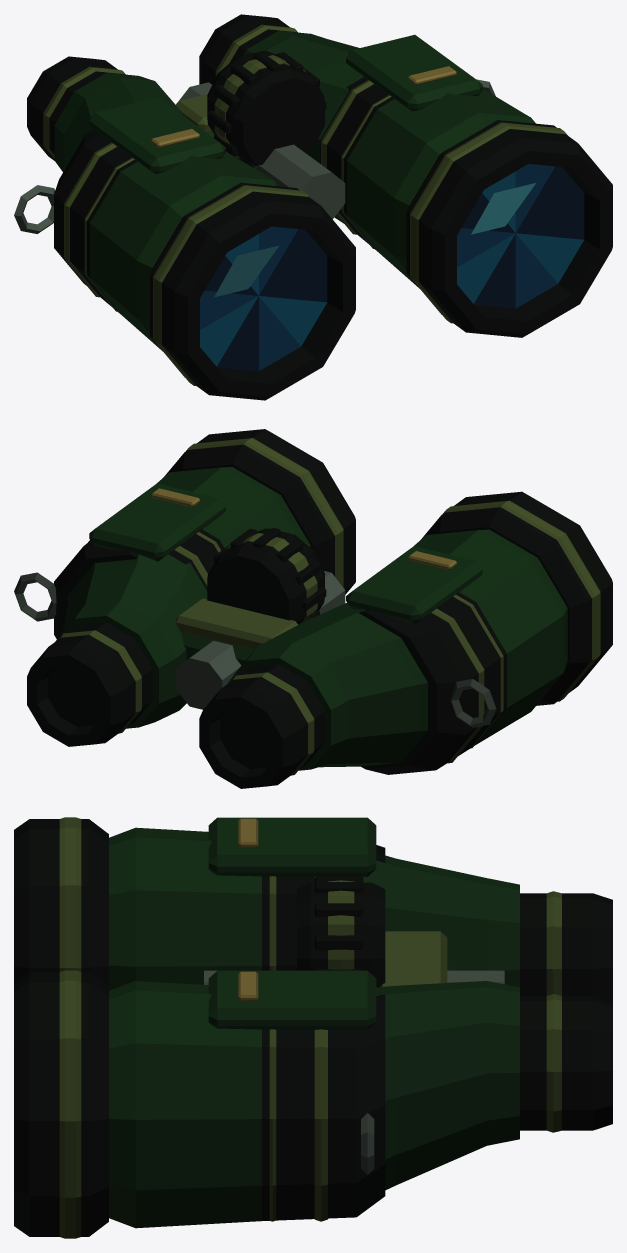
File: Binoculars.fbx
3 renders of one model, top to bottom at view 1: azimuth 30°, elevation 25°; view 2: azimuth 150°, elevation 25°; view 3: azimuth 270°, elevation 25°, orthographic. The views are drawn at different scales.
Parts seen in each view (by area): view 1: Binoculars; view 2: Binoculars; view 3: Binoculars.
Boxes of the visible parts, x1=… form: Binoculars: x1=14, y1=14, x2=612, y2=400; Binoculars: x1=14, y1=429, x2=612, y2=788; Binoculars: x1=14, y1=817, x2=612, y2=1238.
Bounding box in the file's own units: 30.8 × 13.38 × 27.1.
